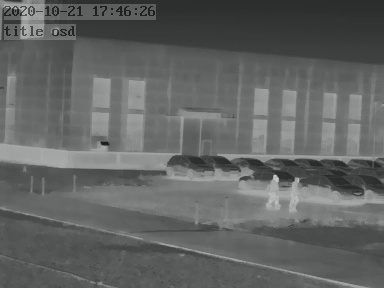person: (267, 173, 283, 207), (288, 176, 300, 214)
vehicle: (300, 171, 363, 201), (165, 152, 212, 179), (237, 171, 294, 191), (349, 173, 384, 204), (203, 153, 241, 177), (231, 154, 271, 172), (261, 155, 296, 170), (347, 156, 380, 170), (318, 156, 347, 170), (295, 155, 323, 169)
